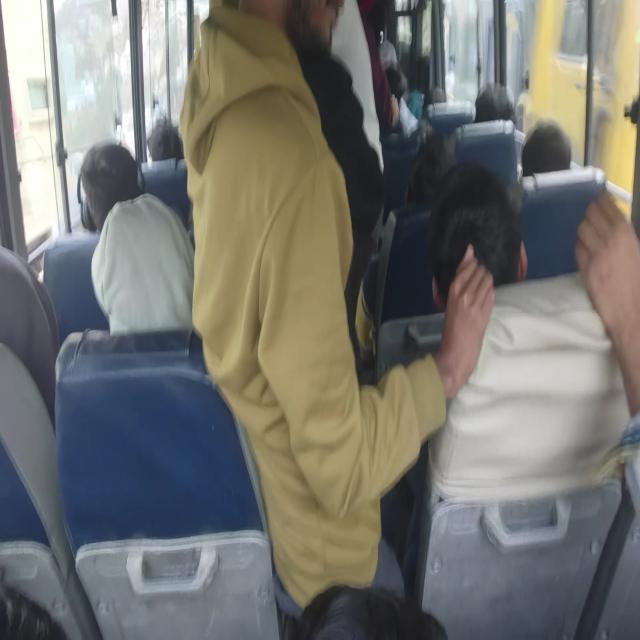person: (178, 1, 500, 628), (423, 160, 639, 505), (284, 0, 385, 358), (78, 140, 195, 336), (574, 188, 639, 427), (427, 160, 528, 310), (289, 583, 448, 639), (78, 140, 145, 234), (520, 118, 572, 176)
